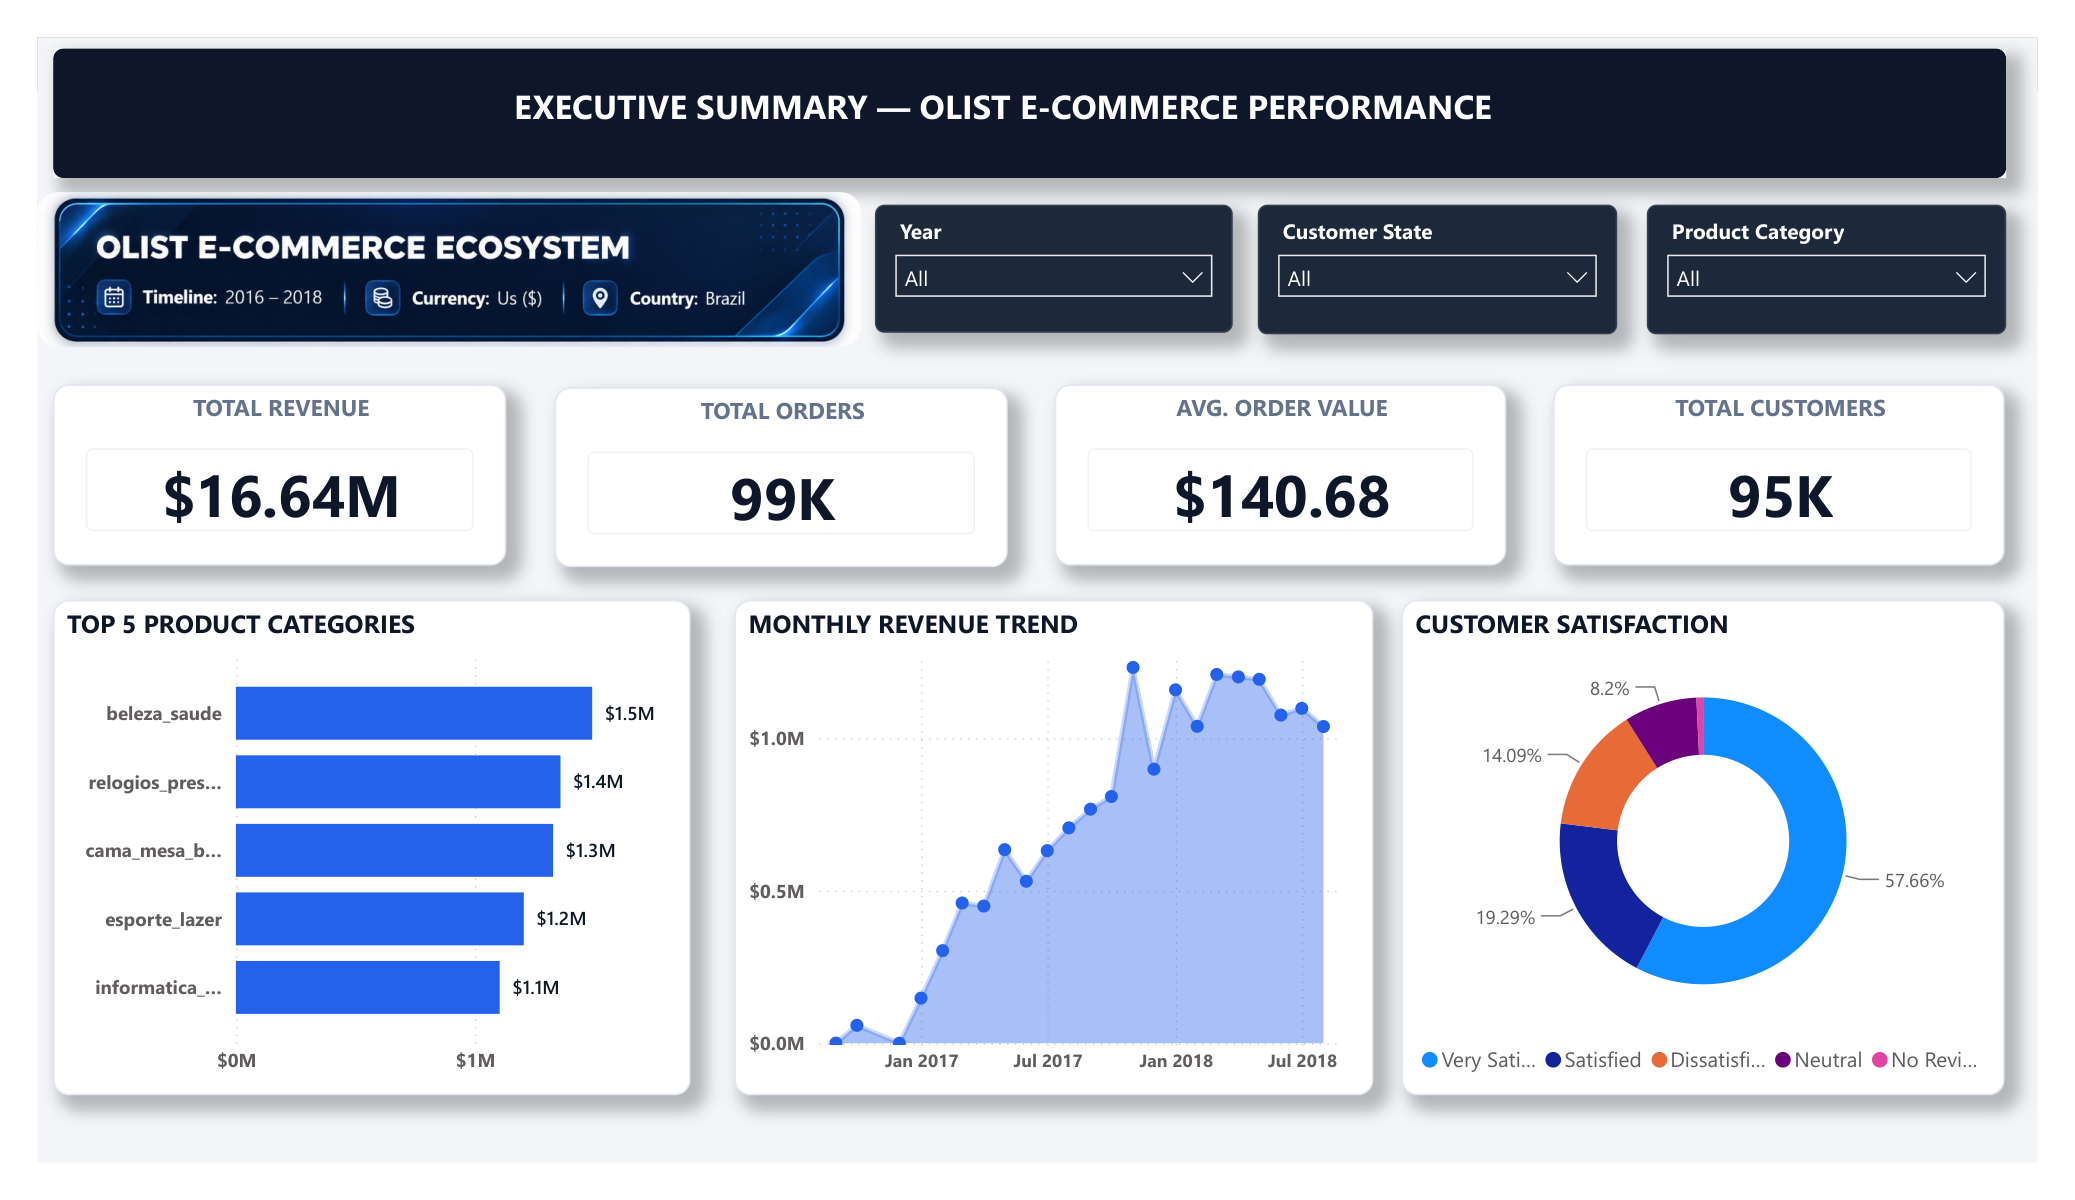

This screenshot's page, from the dashboard's own definition file:
{"tool":"powerbi","page":{"name":"Executive Summary","canvas":[1280,720],"ordinal":0},"visuals":[{"type":"shape","box":[10,7.1,1250,82.9],"z":0},{"type":"textbox","box":[300,24.3,711.4,48.6],"z":1000},{"type":"slicer","fields":{"Values":["dm_customer_insights.customer_state"]},"box":[781.4,107.1,230,82.9],"z":2000},{"type":"slicer","fields":{"Values":["dm_sales_performance.product_category_name"]},"box":[1030,107.1,230,82.9],"z":3000},{"type":"cardVisual","title":"TOTAL REVENUE","fields":{"Data":["Sum(dm_sales_performance.total_order_value)"]},"box":[9.7,222.4,290.5,115.4],"z":4000},{"type":"cardVisual","title":"TOTAL ORDERS","fields":{"Data":["Count(dm_sales_performance.order_id)"]},"box":[330.8,223.8,290.5,115.4],"z":5000},{"type":"cardVisual","title":"TOTAL CUSTOMERS","fields":{"Data":["Count(dm_customer_insights.customer_unique_id)"]},"box":[970.3,222.4,289.1,115.4],"z":6000},{"type":"cardVisual","title":"AVG. ORDER VALUE","fields":{"Data":["Avg(dm_sales_performance.total_order_value)"]},"box":[650.6,222.4,289.1,115.4],"z":7000},{"type":"clusteredBarChart","title":"TOP 5 PRODUCT CATEGORIES","fields":{"Category":["dm_sales_performance.product_category_name"],"Y":["Sum(dm_sales_performance.total_order_value)"]},"box":[9.7,360,408.7,316.9],"z":8000},{"type":"areaChart","title":"MONTHLY REVENUE TREND","fields":{"Y":["Sum(dm_sales_performance.total_order_value)"],"Category":["dm_sales_performance.order_date.Variation.Date Hierarchy.Year","dm_sales_performance.order_date.Variation.Date Hierarchy.Month"]},"box":[446.2,360,408.7,316.9],"z":9000},{"type":"donutChart","title":"CUSTOMER SATISFACTION","fields":{"Category":["dm_customer_insights.satisfaction_category"],"Y":["Count(dm_customer_insights.order_id)"]},"box":[873,360,386.4,316.9],"z":10000},{"type":"slicer","title":"Year","fields":{"Values":["dm_sales_performance.year_number"]},"box":[535.7,107.4,229.2,82],"z":11000},{"type":"image","box":[0,98.9,527.2,98.9],"z":12001}]}

Visuals, with their boxes on the page's 1280x720 design canvas (x1, y1, x2, y2). These are canvas units, not pixel positions in the 2075x1200 screenshot, which may show the page scaled, cropped or inside an application window:
shape: 10,7,1260,90
textbox: 300,24,1011,73
slicer - dm_customer_insights.customer_state: 781,107,1011,190
slicer - dm_sales_performance.product_category_name: 1030,107,1260,190
"TOTAL REVENUE" cardVisual: 10,222,300,338
"TOTAL ORDERS" cardVisual: 331,224,621,339
"TOTAL CUSTOMERS" cardVisual: 970,222,1259,338
"AVG. ORDER VALUE" cardVisual: 651,222,940,338
"TOP 5 PRODUCT CATEGORIES" clusteredBarChart: 10,360,418,677
"MONTHLY REVENUE TREND" areaChart: 446,360,855,677
"CUSTOMER SATISFACTION" donutChart: 873,360,1259,677
"Year" slicer: 536,107,765,189
image: 0,99,527,198
